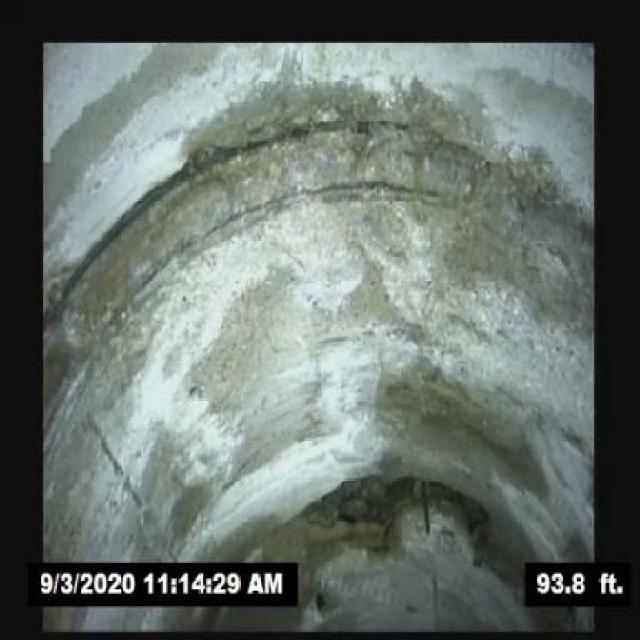Hole: (292, 449, 498, 577)
